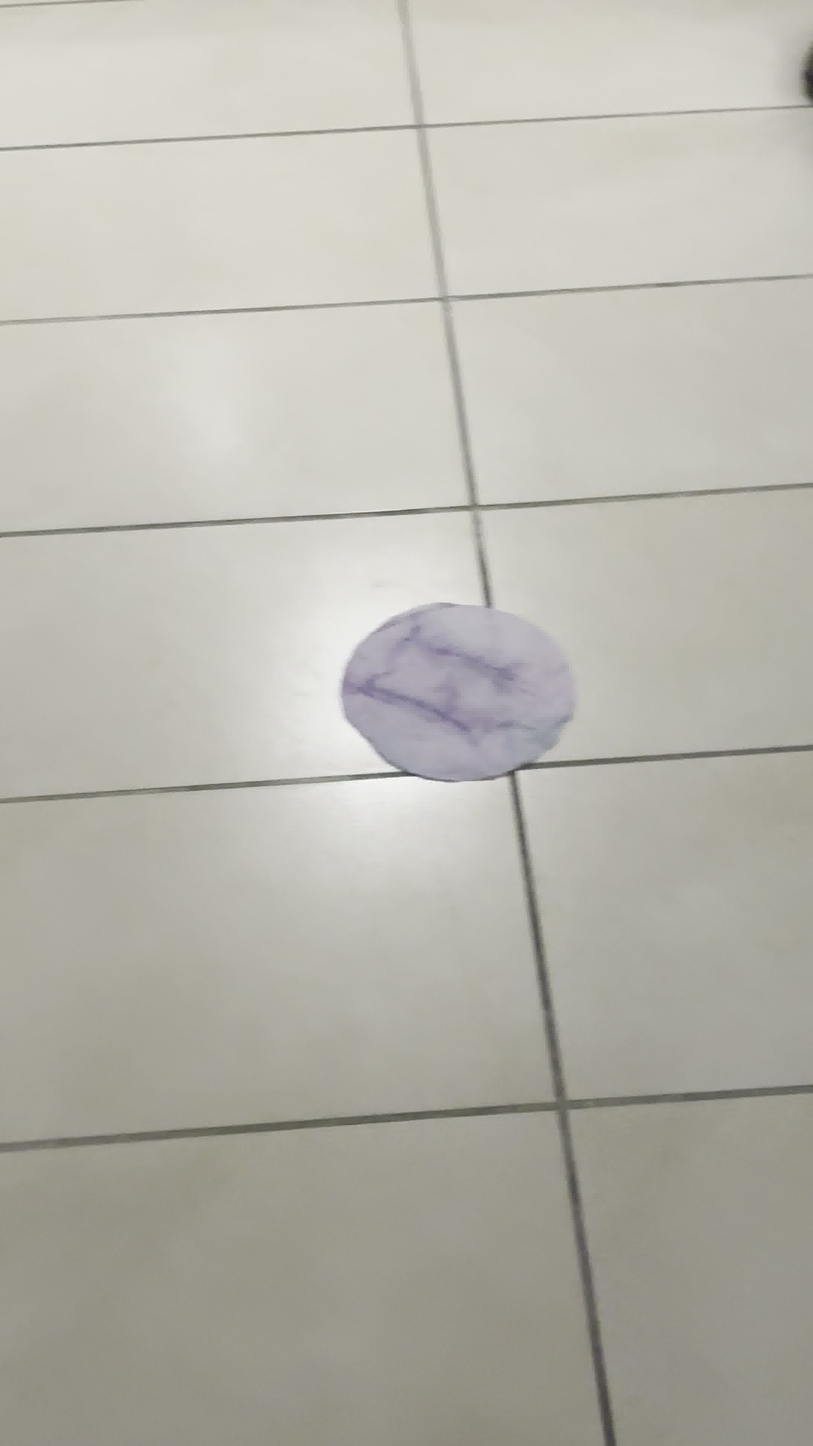Target: (338, 599, 580, 782)
